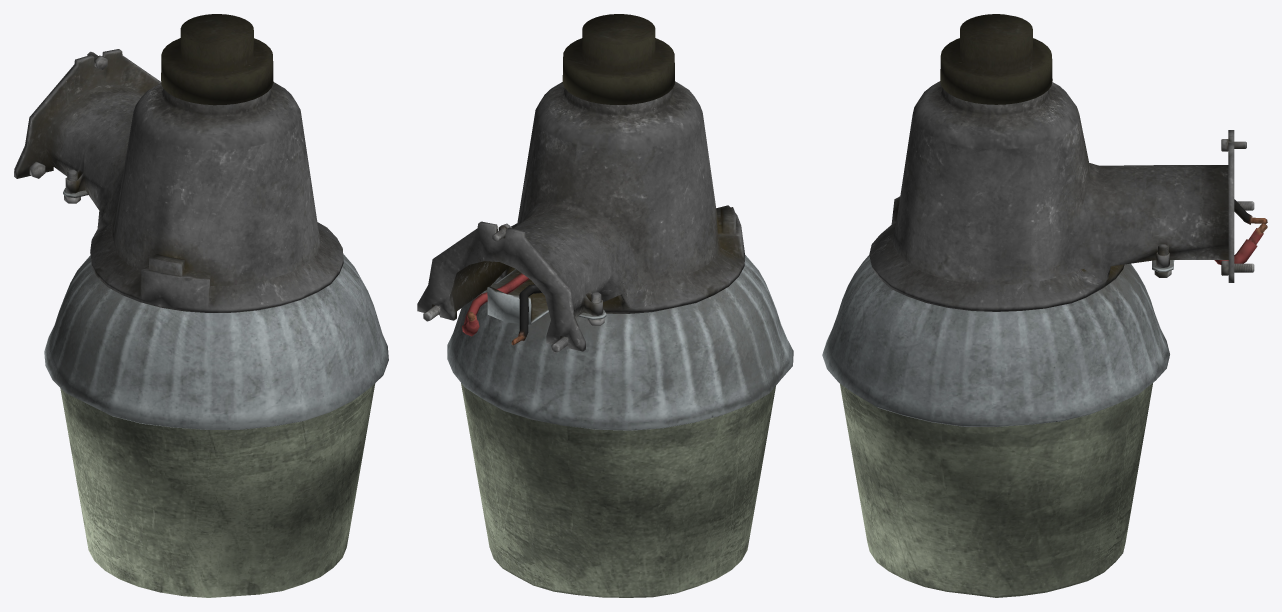
Rendered from security_light.glb.
3 renders of one model, left to right at view 1: azimuth 30°, elevation 25°; view 2: azimuth 150°, elevation 25°; view 3: azimuth 270°, elevation 25°, orthographic.
Visible parts, largest first — view 1: security_light, security_light_glass; view 2: security_light, security_light_glass; view 3: security_light, security_light_glass.
Boxes of the visible parts, x1,y1,x2,y2 form: security_light: (14, 14, 388, 429); security_light_glass: (60, 383, 375, 597); security_light: (417, 14, 793, 430); security_light_glass: (461, 383, 775, 597); security_light: (822, 14, 1267, 426); security_light_glass: (840, 383, 1152, 597).
Bounding box in the file's own units: 0.3231 × 0.531 × 0.4172.
3 materials, 3 textured.
